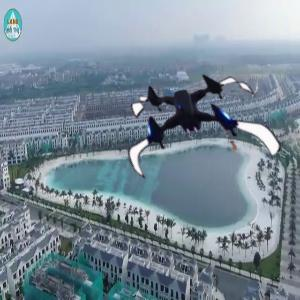drone: (117, 52, 266, 201)
